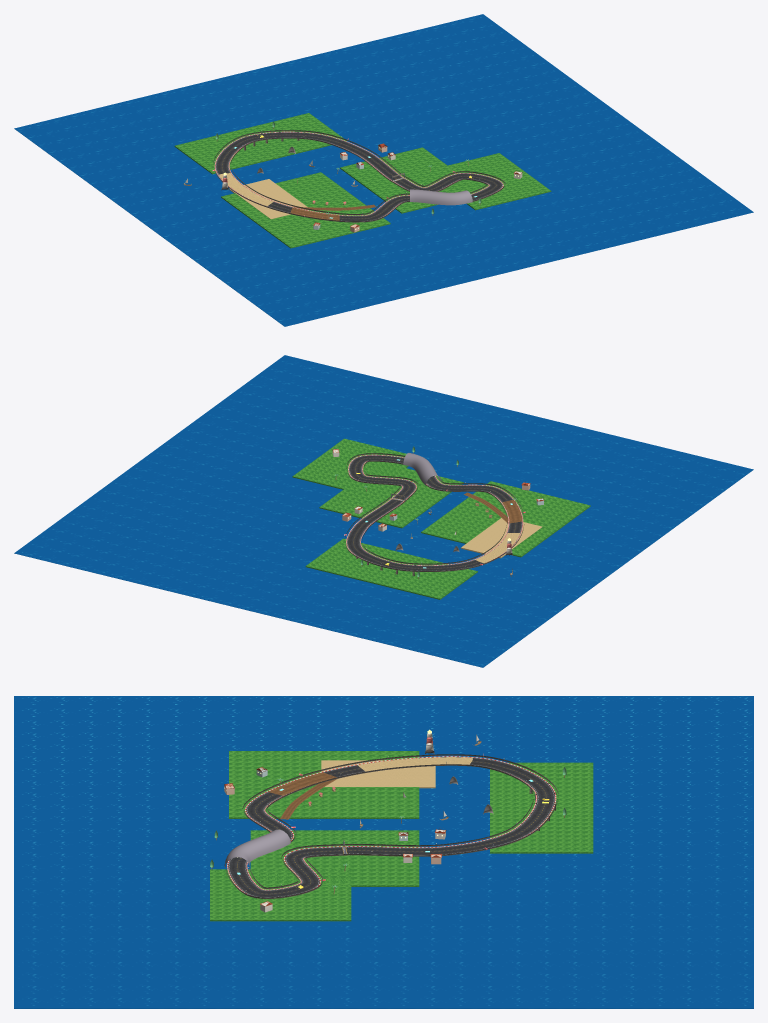
Rendered from porto_das_lanternas.glb.
3 renders of one model, top to bottom at view 1: azimuth 30°, elevation 25°; view 2: azimuth 150°, elevation 25°; view 3: azimuth 270°, elevation 25°, orthographic. The views are drawn at different scales.
Visible parts, largest first — view 1: BayWaterPlane, LandHarborWest, LandNorthRidge, LandStartSouth, MainRoadMesh, LandEastHeadland, SandCoveBeach, RightStoneWall, CoastalTunnelShell, LeftStoneWall; view 2: BayWaterPlane, LandHarborWest, LandNorthRidge, MainRoadMesh, LandStartSouth, LandEastHeadland, SandCoveBeach, RightStoneWall, LeftStoneWall, CoastalTunnelShell; view 3: BayWaterPlane, LandHarborWest, LandNorthRidge, MainRoadMesh, LandStartSouth, LandEastHeadland, SandCoveBeach, RightStoneWall, LeftStoneWall, CoastalTunnelShell, SurfacePatch_sand-cove-shoulder, RightCurbMesh (+2 smaller).
Boxes of the visible parts, x1,y1,x2,y2 form: BayWaterPlane: [14, 14, 753, 326]; LandHarborWest: [221, 172, 390, 248]; LandNorthRidge: [174, 113, 346, 174]; LandStartSouth: [340, 147, 480, 213]; MainRoadMesh: [215, 132, 502, 221]; LandEastHeadland: [448, 153, 551, 210]; SandCoveBeach: [229, 179, 308, 219]; RightStoneWall: [213, 130, 505, 222]; CoastalTunnelShell: [410, 189, 472, 205]; LeftStoneWall: [230, 137, 487, 214]; BayWaterPlane: [14, 355, 753, 667]; LandHarborWest: [421, 481, 590, 557]; LandNorthRidge: [305, 538, 477, 599]; MainRoadMesh: [347, 455, 522, 570]; LandStartSouth: [319, 462, 463, 528]; LandEastHeadland: [292, 438, 408, 494]; SandCoveBeach: [461, 518, 542, 558]; RightStoneWall: [344, 453, 524, 571]; LeftStoneWall: [362, 460, 507, 564]; CoastalTunnelShell: [403, 453, 441, 485]; BayWaterPlane: [14, 696, 753, 1008]; LandHarborWest: [229, 751, 419, 818]; LandNorthRidge: [490, 762, 593, 853]; MainRoadMesh: [228, 757, 554, 897]; LandStartSouth: [250, 830, 419, 886]; LandEastHeadland: [210, 869, 351, 921]; SandCoveBeach: [321, 760, 435, 788]; RightStoneWall: [224, 754, 558, 898]; LeftStoneWall: [249, 764, 534, 888]; CoastalTunnelShell: [225, 829, 290, 867]; SurfacePatch_sand-cove-shoulder: [358, 757, 472, 771]; RightCurbMesh: [227, 756, 556, 894].
Size of the model in its own units: 680 by 37.25 by 680.
Materials: 23 (11 with a texture image).
